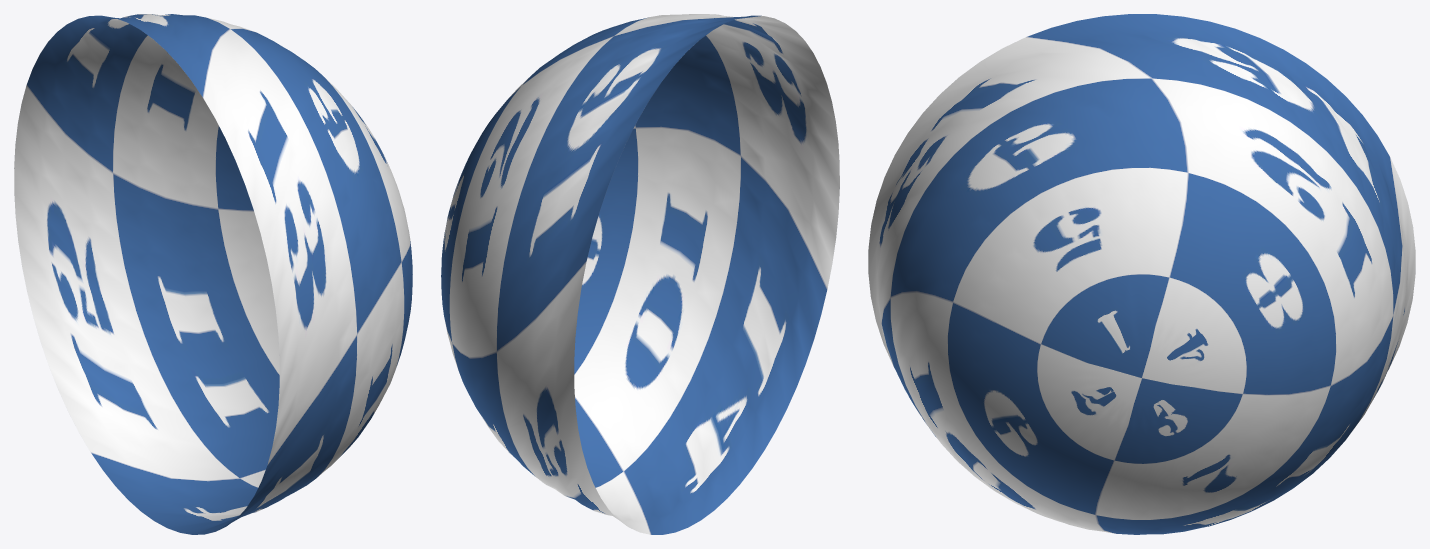
File: Rengoku_Spl_078_Dome1.fbx
3 renders of one model, left to right at view 1: azimuth 30°, elevation 25°; view 2: azimuth 150°, elevation 25°; view 3: azimuth 270°, elevation 25°, orthographic. The views are drawn at different scales.
Visible parts, largest first — view 1: SM_d_e_P0012_V00_C00_SplRgk_c078_Dome_00; view 2: SM_d_e_P0012_V00_C00_SplRgk_c078_Dome_00; view 3: SM_d_e_P0012_V00_C00_SplRgk_c078_Dome_00.
Boxes of the visible parts, box(x1,y1,x2,y2) form: SM_d_e_P0012_V00_C00_SplRgk_c078_Dome_00: box(14, 14, 412, 534); SM_d_e_P0012_V00_C00_SplRgk_c078_Dome_00: box(441, 14, 839, 534); SM_d_e_P0012_V00_C00_SplRgk_c078_Dome_00: box(868, 14, 1415, 534).
Size of the model in its own units: 49.95 by 99.42 by 99.42.
